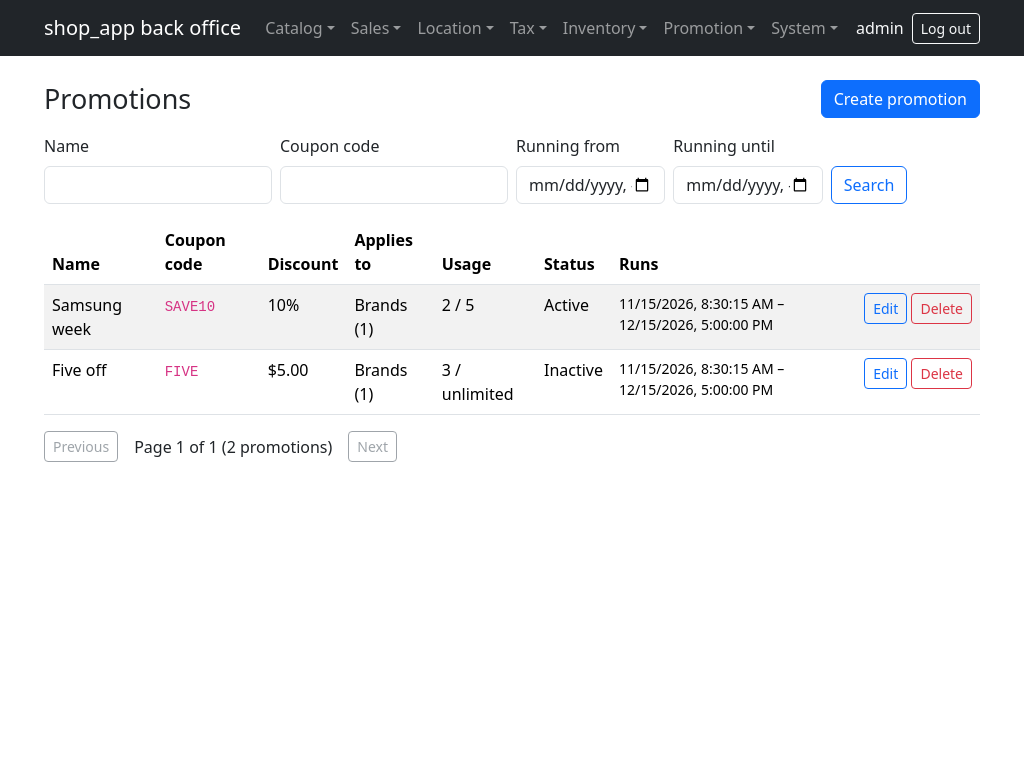
Scenario: Promotions list › shows promotions, filters them and deletes with a confirmation, showing the server error
expect the text "SAVE10" is shown: met, box [165,299,215,315]
expect the text "10%" is shown: met, box [260,284,346,350]
Type "samsung" into the field labelled "Name" at (158, 185), box [44,166,272,204]
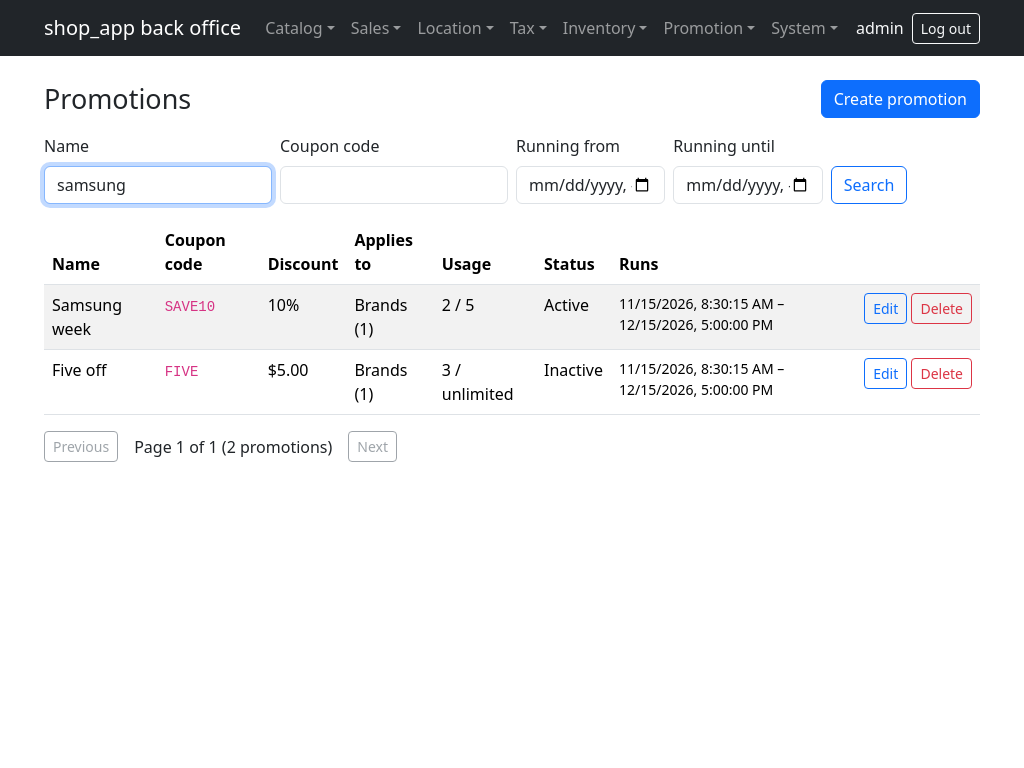
Type "SAVE" into the field labelled "Coupon code" at (394, 185), box [280,166,508,204]
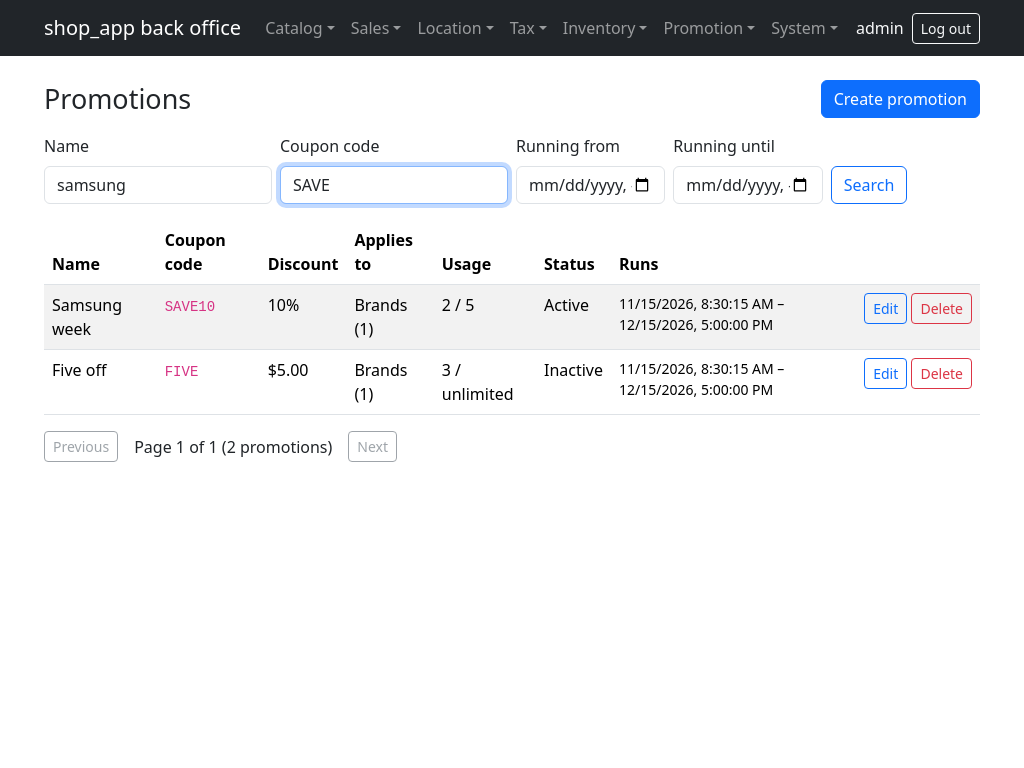
Type "2026-11-01T00:00" into the field labelled "Running from" at (591, 185), box [516,166,665,204]
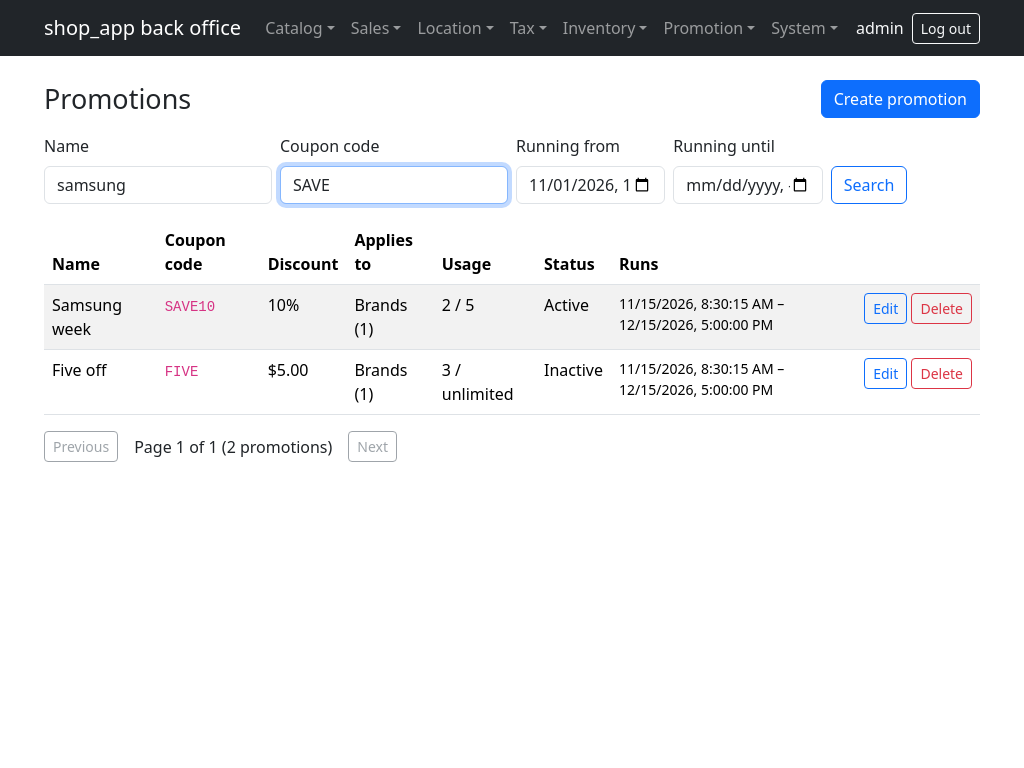
Click the button "Search" at (869, 185), box [831,166,907,204]
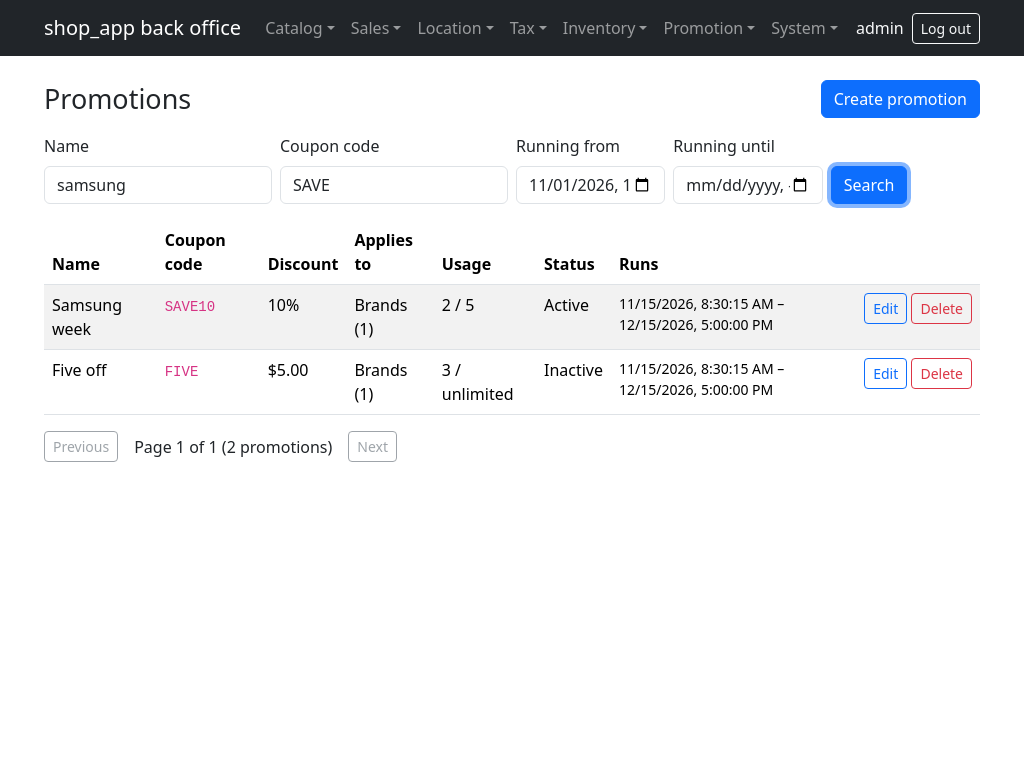
Click the button "Delete" in the row of "Samsung week" at (942, 308), box [911,293,972,324]
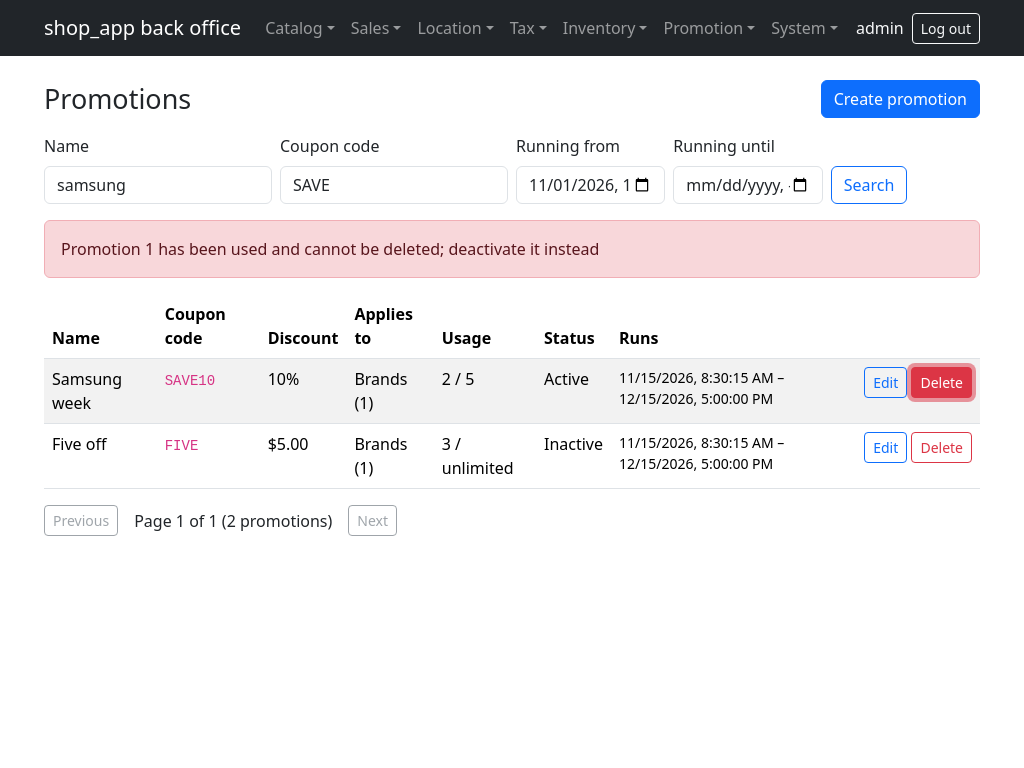
expect the message shows "has been used and cannot be deleted": met, box [61,238,599,260]
